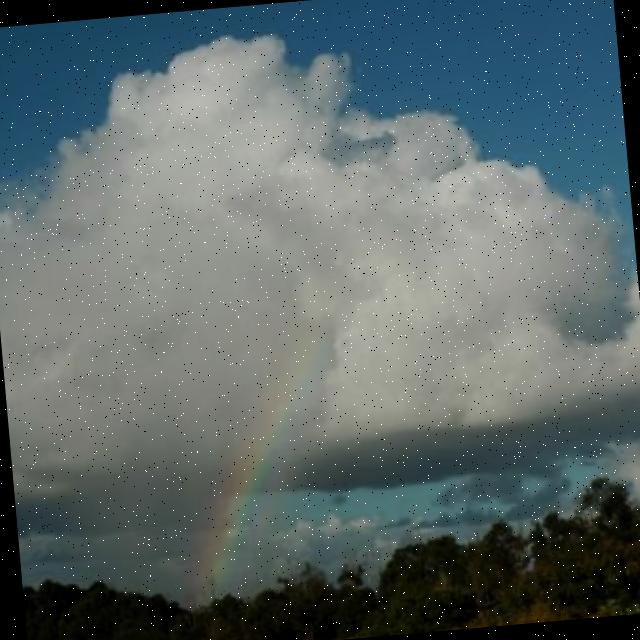Cu: (1, 26, 640, 522)
